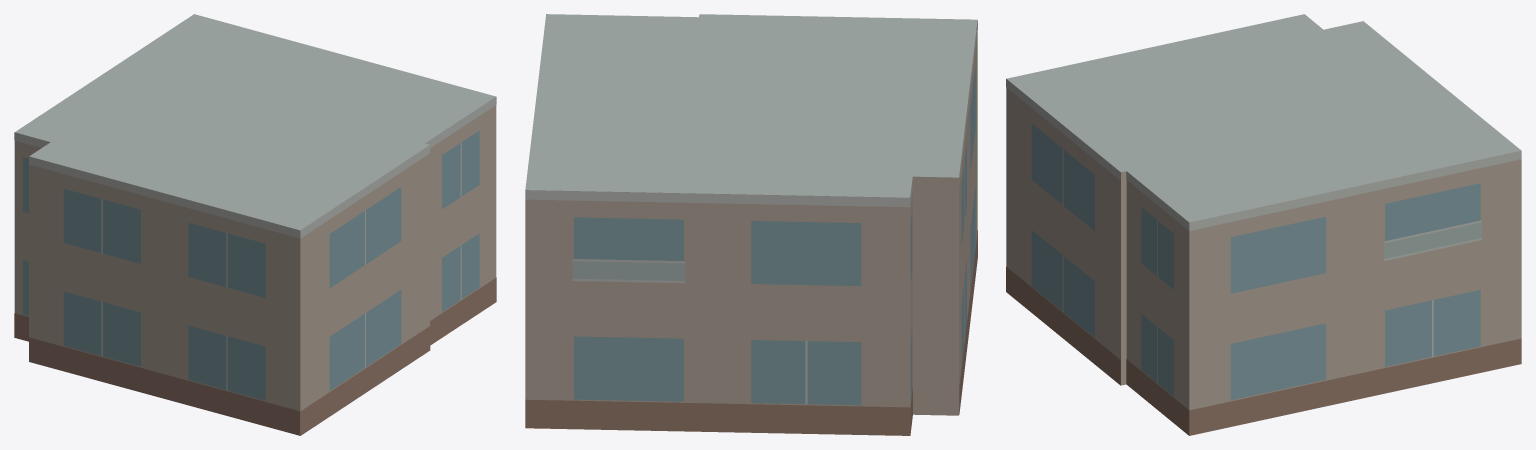
The model's file is survey-upis-32830663.glb.
3 views of the same model, side by side, from view 1: azimuth 30°, elevation 25°; view 2: azimuth 150°, elevation 25°; view 3: azimuth 270°, elevation 25° (orthographic). The views are drawn at different scales.
Visible parts, largest first — view 1: survey-upis-32830663.tmp; view 2: survey-upis-32830663.tmp; view 3: survey-upis-32830663.tmp.
Boxes of the visible parts, x1,y1,x2,y2 form: survey-upis-32830663.tmp: [14, 14, 496, 435]; survey-upis-32830663.tmp: [525, 14, 977, 435]; survey-upis-32830663.tmp: [1006, 14, 1521, 435].
Bounding box in the file's own units: 12.8 × 6.1 × 13.37.
